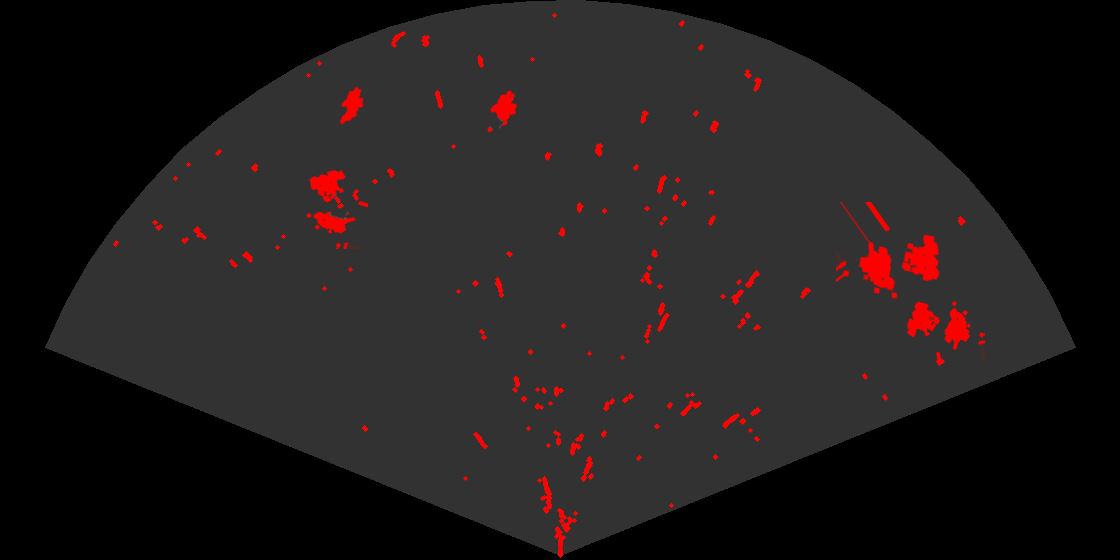AUV: (486, 89, 518, 134), (338, 85, 365, 126)
cage: (836, 202, 941, 301), (305, 168, 368, 249), (905, 299, 985, 360)
